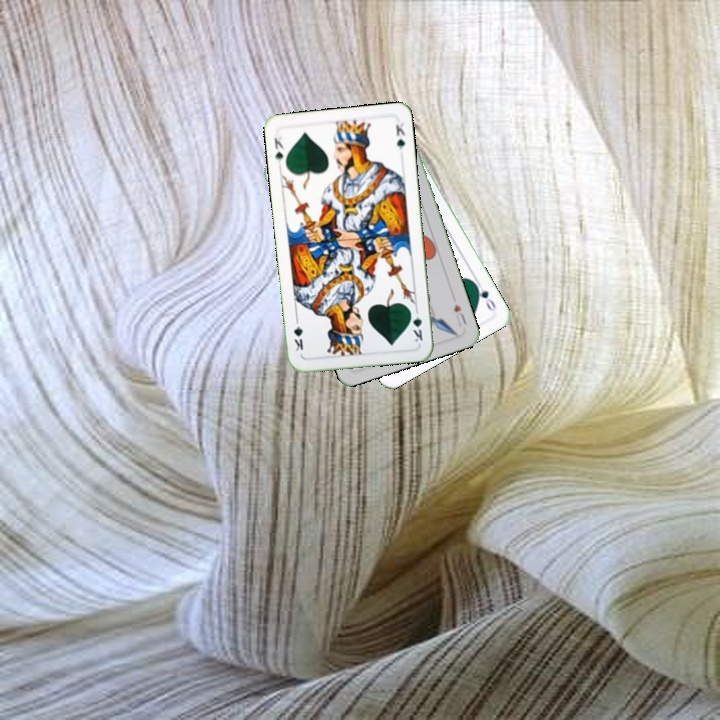GK: (406, 306, 425, 344), (270, 132, 287, 165)
GO: (470, 276, 498, 315)
HU: (450, 300, 469, 329)
